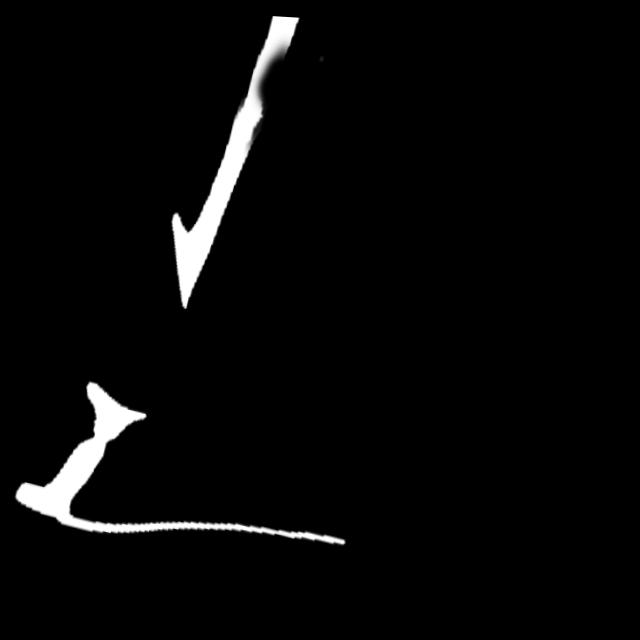sl: (227, 28, 296, 132)
